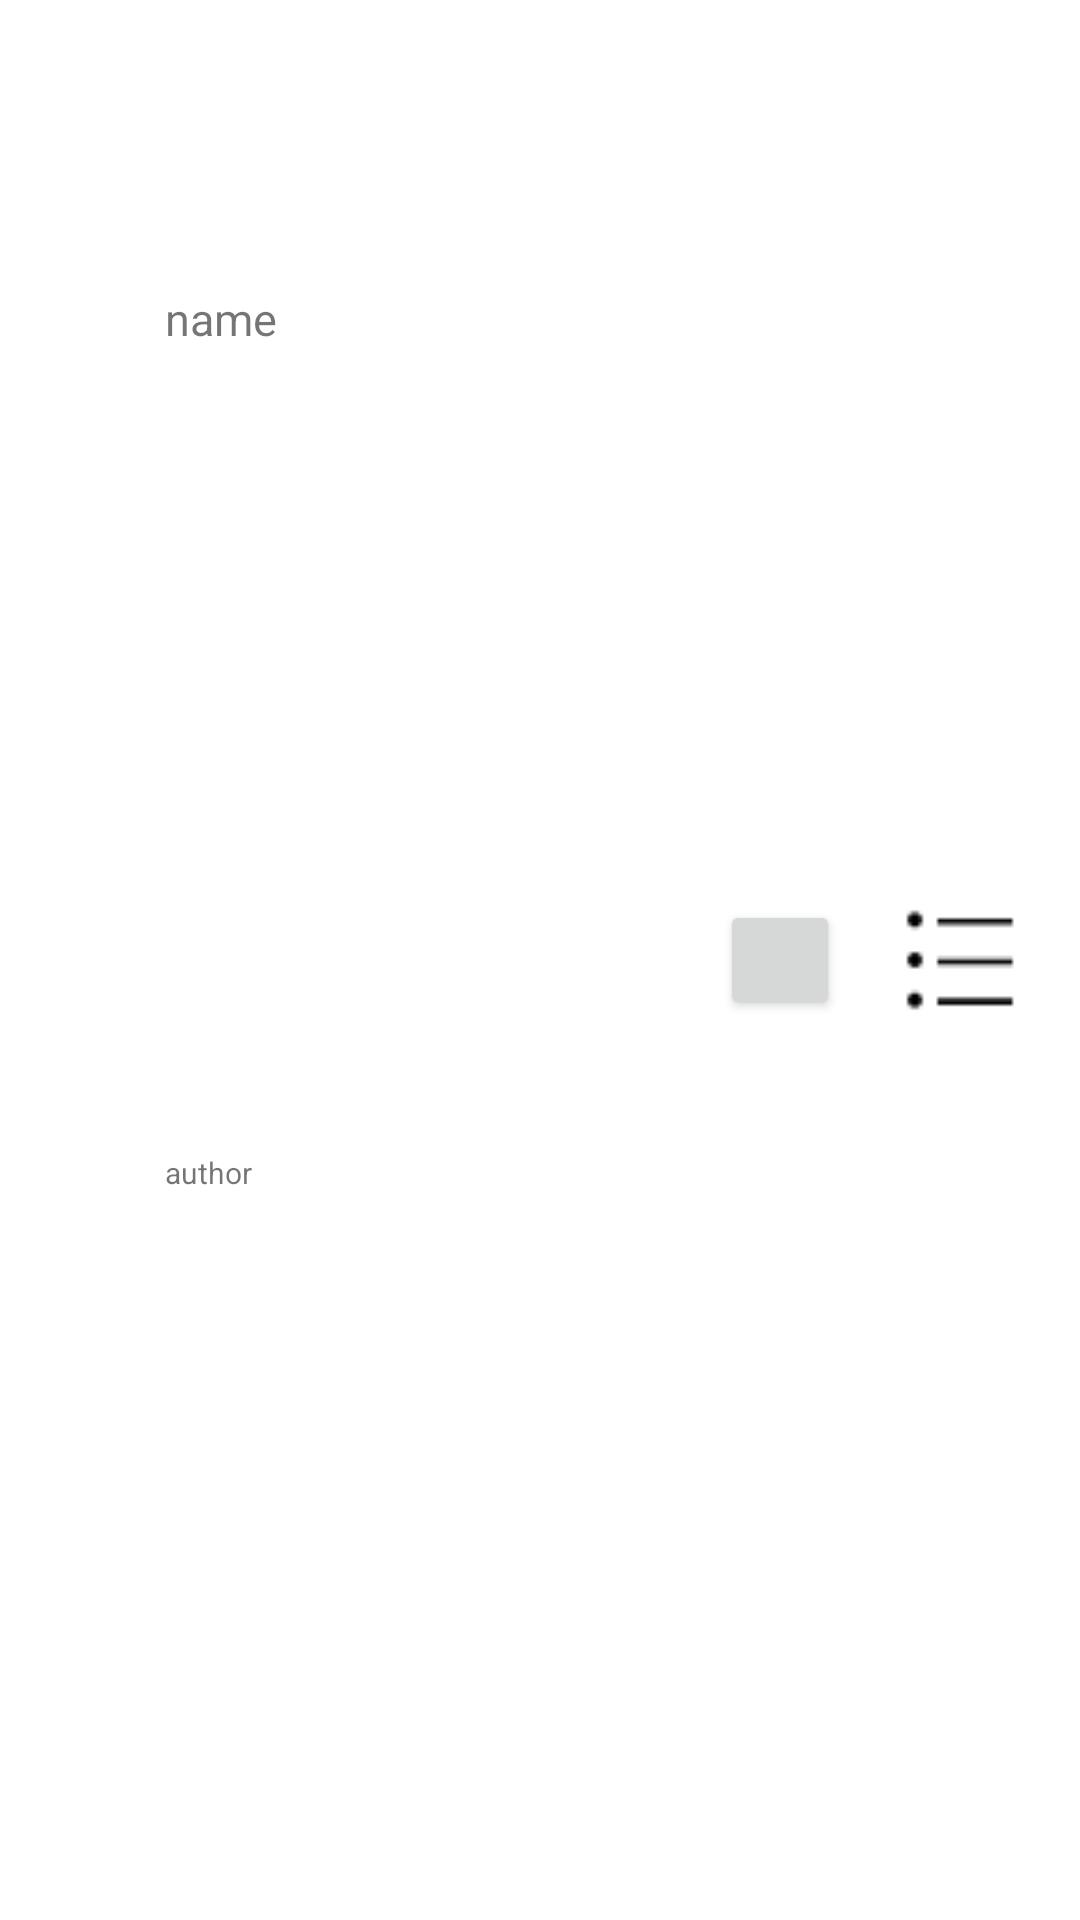

Icons on this 1080x1920 Android screen, each with its box as (x1, y1, x2, y2):
list: (906, 910, 1014, 1010)
